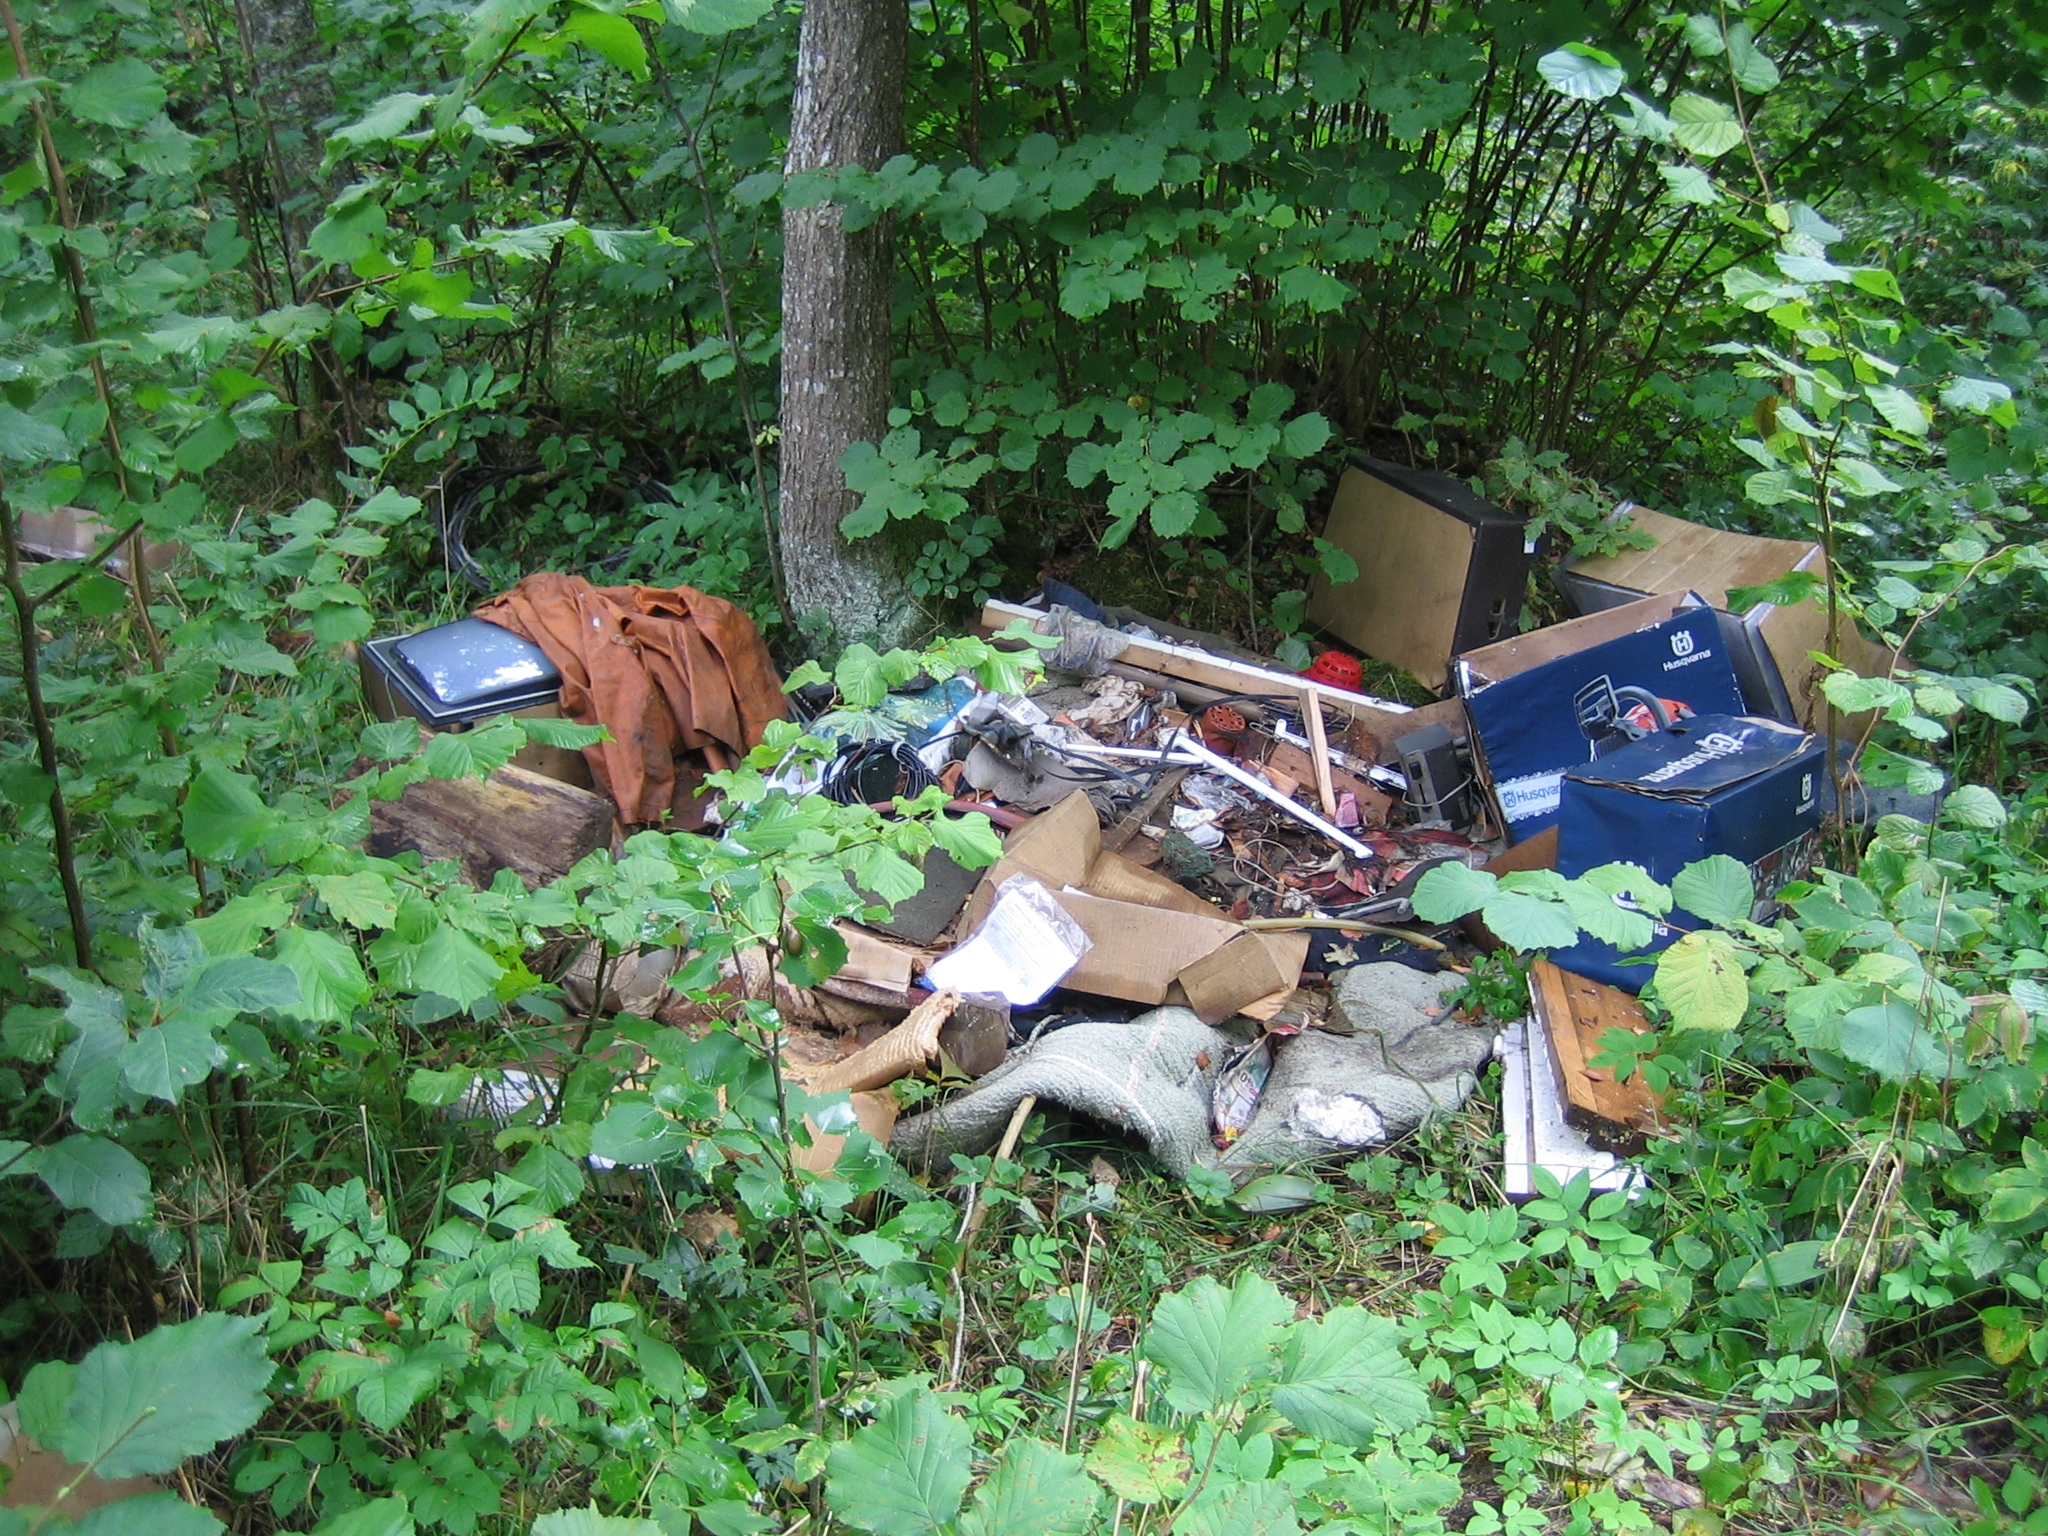trash: (287, 424, 1893, 1246)
